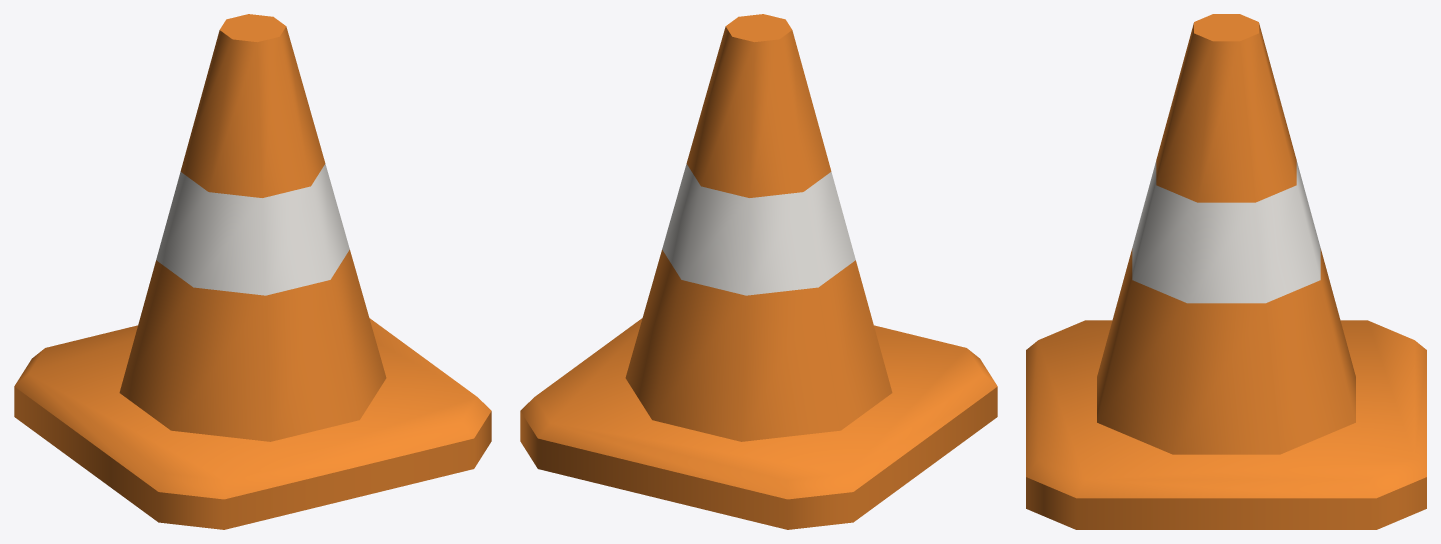
Rendered from traffic_cone.glb.
3 views of the same model, side by side, from view 1: azimuth 30°, elevation 25°; view 2: azimuth 150°, elevation 25°; view 3: azimuth 270°, elevation 25° (orthographic). The views are drawn at different scales.
Visible parts, largest first — view 1: traffic_cone; view 2: traffic_cone; view 3: traffic_cone.
Boxes of the visible parts, box(x1,y1,x2,y2) form: traffic_cone: box(14, 14, 491, 529); traffic_cone: box(520, 14, 997, 529); traffic_cone: box(1026, 14, 1426, 529).
Bounding box in the file's own units: 0.4 × 0.46 × 0.4.
1 material, 1 textured.
